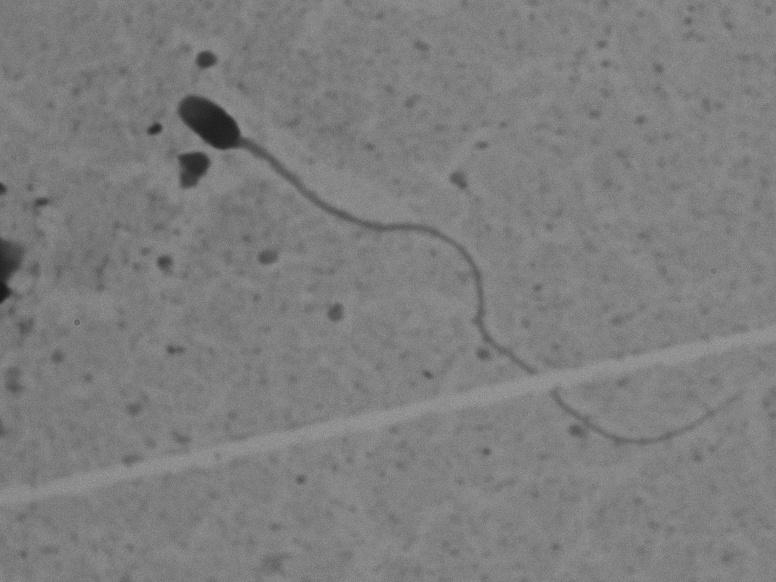Abnormal: (166, 51, 741, 454)
